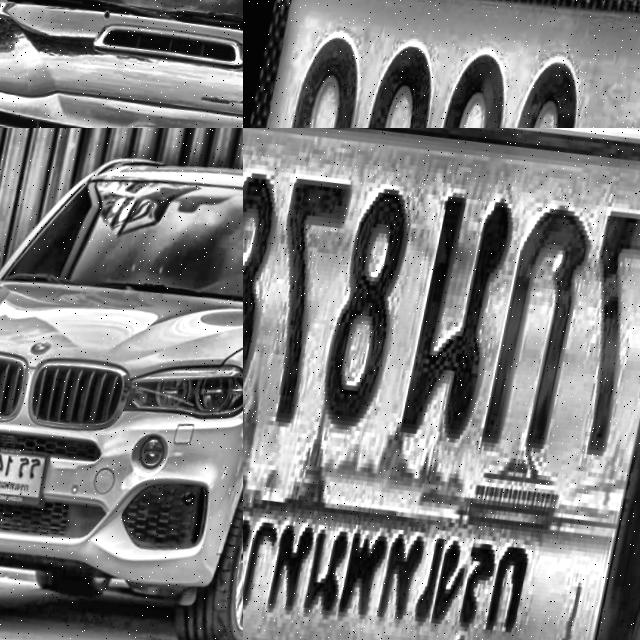license-plate: (243, 128, 640, 640), (243, 0, 640, 128), (0, 441, 58, 510)
